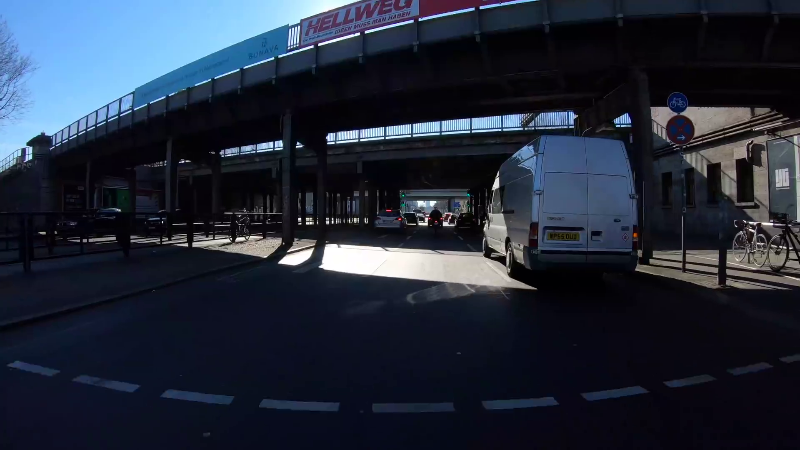Plate: (546, 231, 581, 243)
